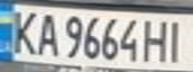4: (118, 15, 142, 63)
6: (81, 12, 103, 61), (100, 15, 121, 62)
9: (60, 11, 84, 58)
A: (33, 9, 60, 57)
H: (139, 16, 172, 63)
I: (163, 17, 193, 64)
K: (6, 7, 42, 55)
